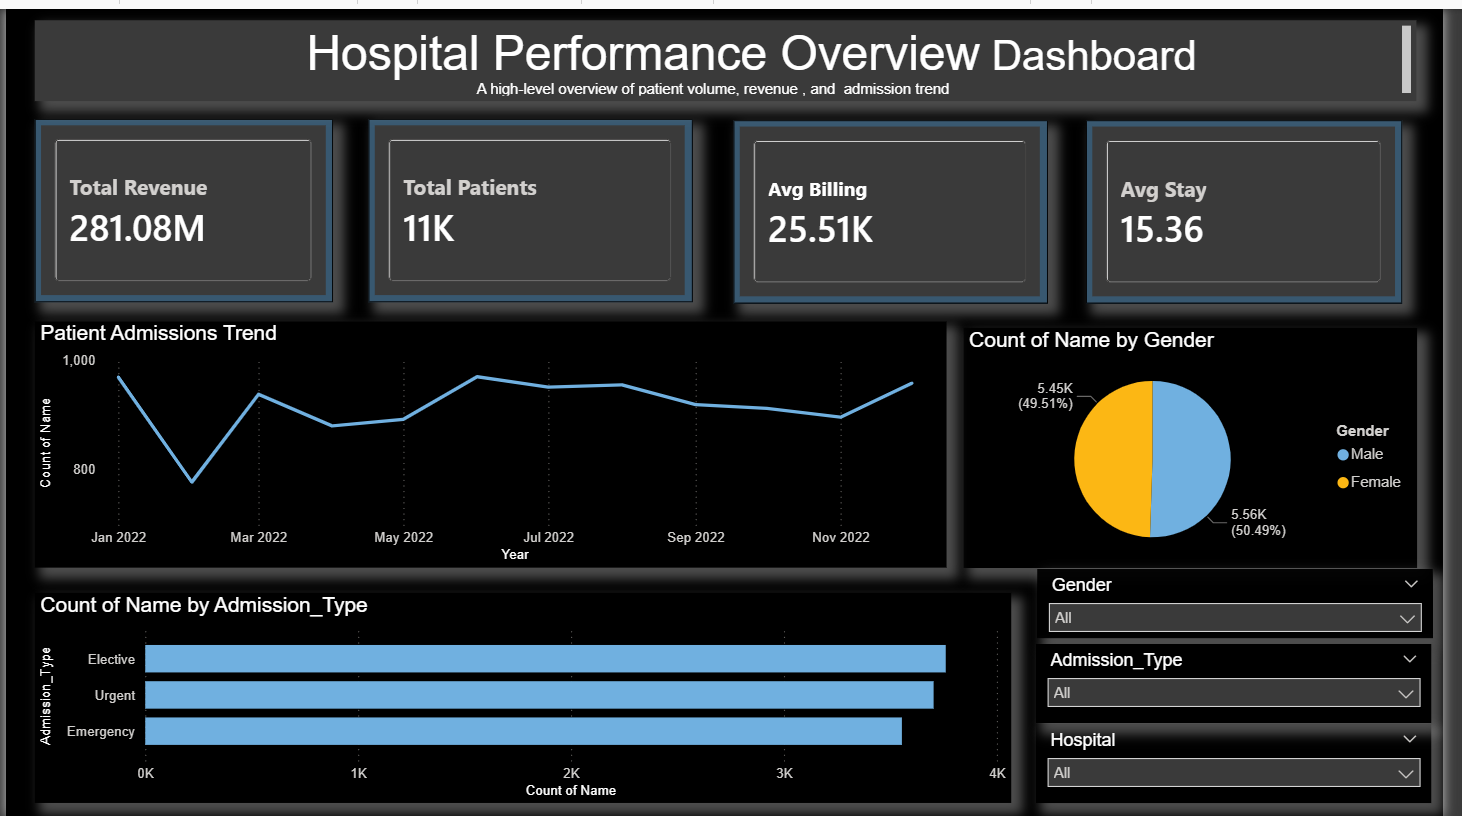

Layout of this report page (visuals, bound fields, positions):
{"tool":"powerbi","page":{"name":"Page 1","canvas":[1280,720],"ordinal":0},"visuals":[{"type":"cardVisual","fields":{"Data":["Healthcare_data.Total Revenue"]},"box":[26,98.1,265.5,163],"z":0},{"type":"cardVisual","fields":{"Data":["Healthcare_data.Total Patients"]},"box":[323.2,98.1,288.6,163],"z":1000},{"type":"cardVisual","fields":{"Data":["Healthcare_data.Avg Billing"]},"box":[647.8,99.6,279.9,163],"z":2000},{"type":"cardVisual","fields":{"Data":["Healthcare_data.Avg Stay"]},"box":[962.3,99.6,281.3,163],"z":3000},{"type":"lineChart","title":"Patient Admissions Trend","fields":{"Y":["CountNonNull(Healthcare_data.Name)"],"Category":["Healthcare_data.Date_of_Admission.Variation.Date Hierarchy.Year","Healthcare_data.Date_of_Admission.Variation.Date Hierarchy.Month"]},"box":[26,278.5,812.3,219.3],"z":4000},{"type":"barChart","fields":{"Category":["Healthcare_data.Admission_Type"],"Y":["CountNonNull(Healthcare_data.Name)"]},"box":[26,519.4,870,187.6],"z":5000},{"type":"pieChart","fields":{"Category":["Healthcare_data.Gender"],"Y":["CountNonNull(Healthcare_data.Name)"]},"box":[852.7,284.2,404,213.5],"z":6000},{"type":"slicer","fields":{"Values":["Healthcare_data.Hospital"]},"box":[917.6,636.3,352,70.7],"z":7000},{"type":"slicer","fields":{"Values":["Healthcare_data.Gender"]},"box":[918.1,498.3,352.3,61.5],"z":8000},{"type":"slicer","fields":{"Values":["Healthcare_data.Admission_Type"]},"box":[917.6,565.6,352,70.7],"z":9000},{"type":"textbox","box":[26,10.1,1230.7,72.1],"z":10000}]}

Visuals, with their boxes in screenshot pixels (x1, y1, x2, y2), scaled from the page's 1280x720 canvas onto the 1462x816 screenshot:
cardVisual - Healthcare_data.Total Revenue: bbox=[30, 111, 333, 296]
cardVisual - Healthcare_data.Total Patients: bbox=[369, 111, 699, 296]
cardVisual - Healthcare_data.Avg Billing: bbox=[740, 113, 1060, 298]
cardVisual - Healthcare_data.Avg Stay: bbox=[1099, 113, 1420, 298]
"Patient Admissions Trend" lineChart: bbox=[30, 316, 957, 564]
barChart - Healthcare_data.Admission_Type x CountNonNull(Healthcare_data.Name): bbox=[30, 589, 1023, 801]
pieChart - Healthcare_data.Gender x CountNonNull(Healthcare_data.Name): bbox=[974, 322, 1435, 564]
slicer - Healthcare_data.Hospital: bbox=[1048, 721, 1450, 801]
slicer - Healthcare_data.Gender: bbox=[1049, 565, 1451, 634]
slicer - Healthcare_data.Admission_Type: bbox=[1048, 641, 1450, 721]
textbox: bbox=[30, 11, 1435, 93]
